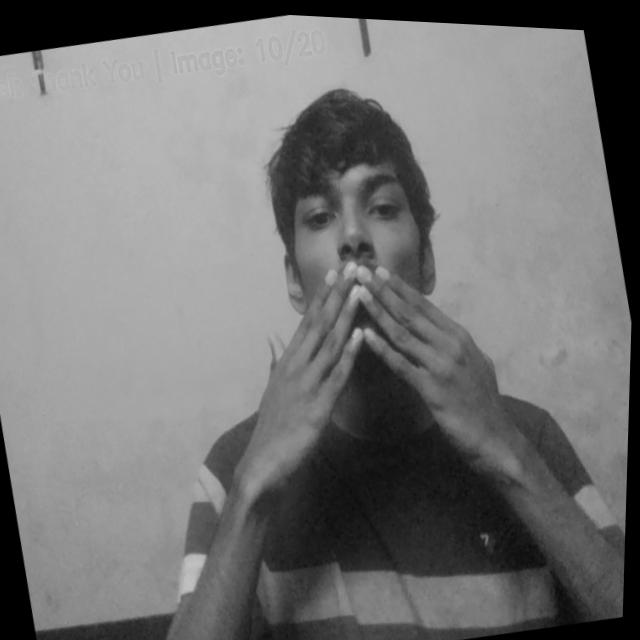Thank You: (210, 223, 521, 481)
